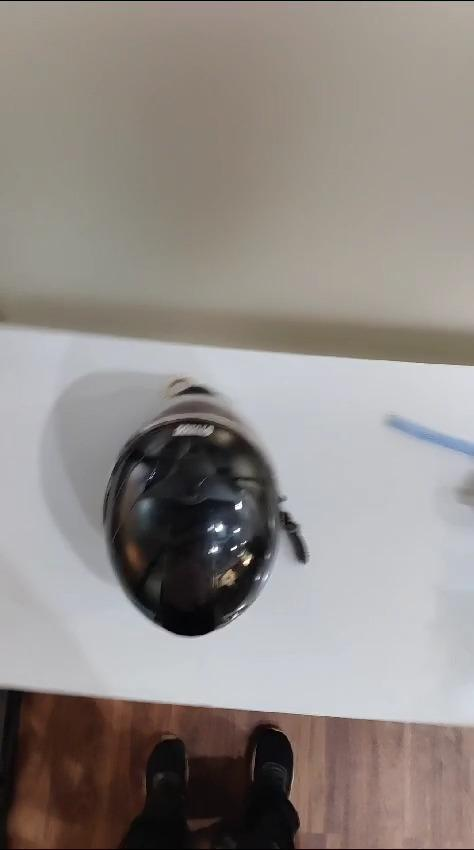Helmet: (98, 374, 309, 647)
